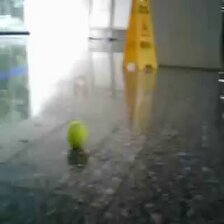tennis: (67, 121, 88, 148)
